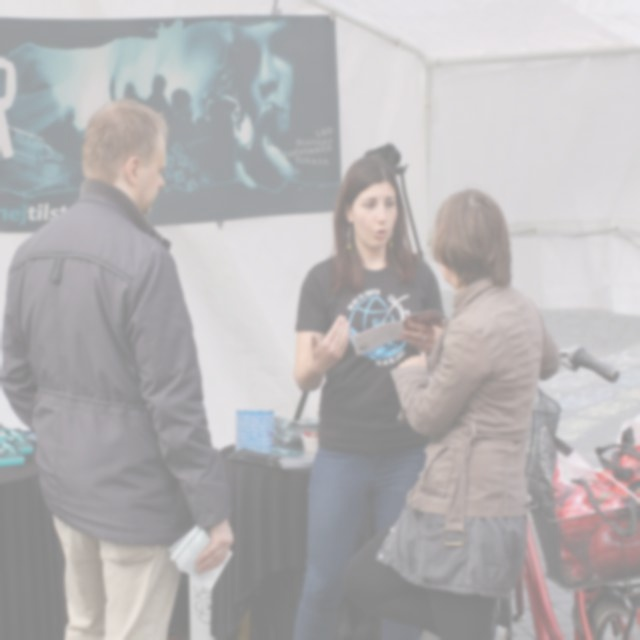pessoa: (0, 88, 242, 639), (334, 181, 568, 640), (0, 0, 338, 234), (292, 155, 446, 640)
